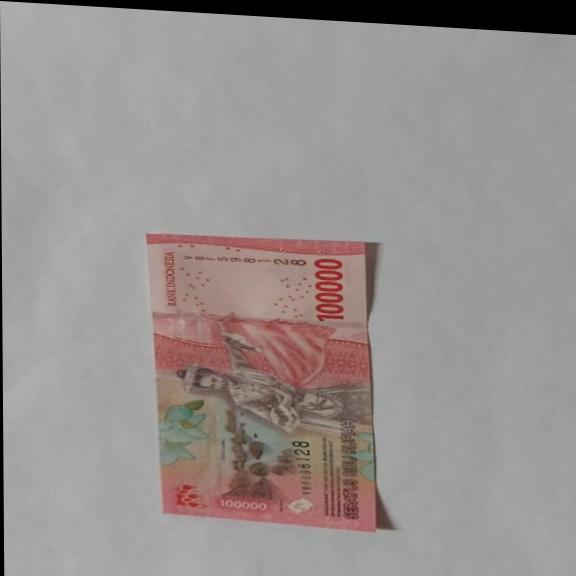Kertas: (146, 228, 382, 532), (312, 256, 346, 322)
